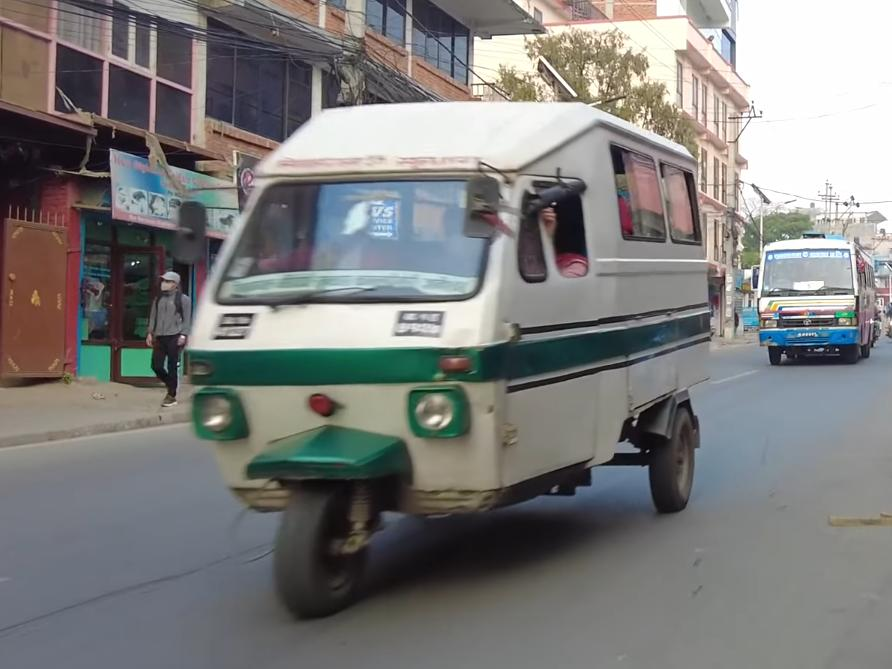tempo: (167, 86, 714, 623)
